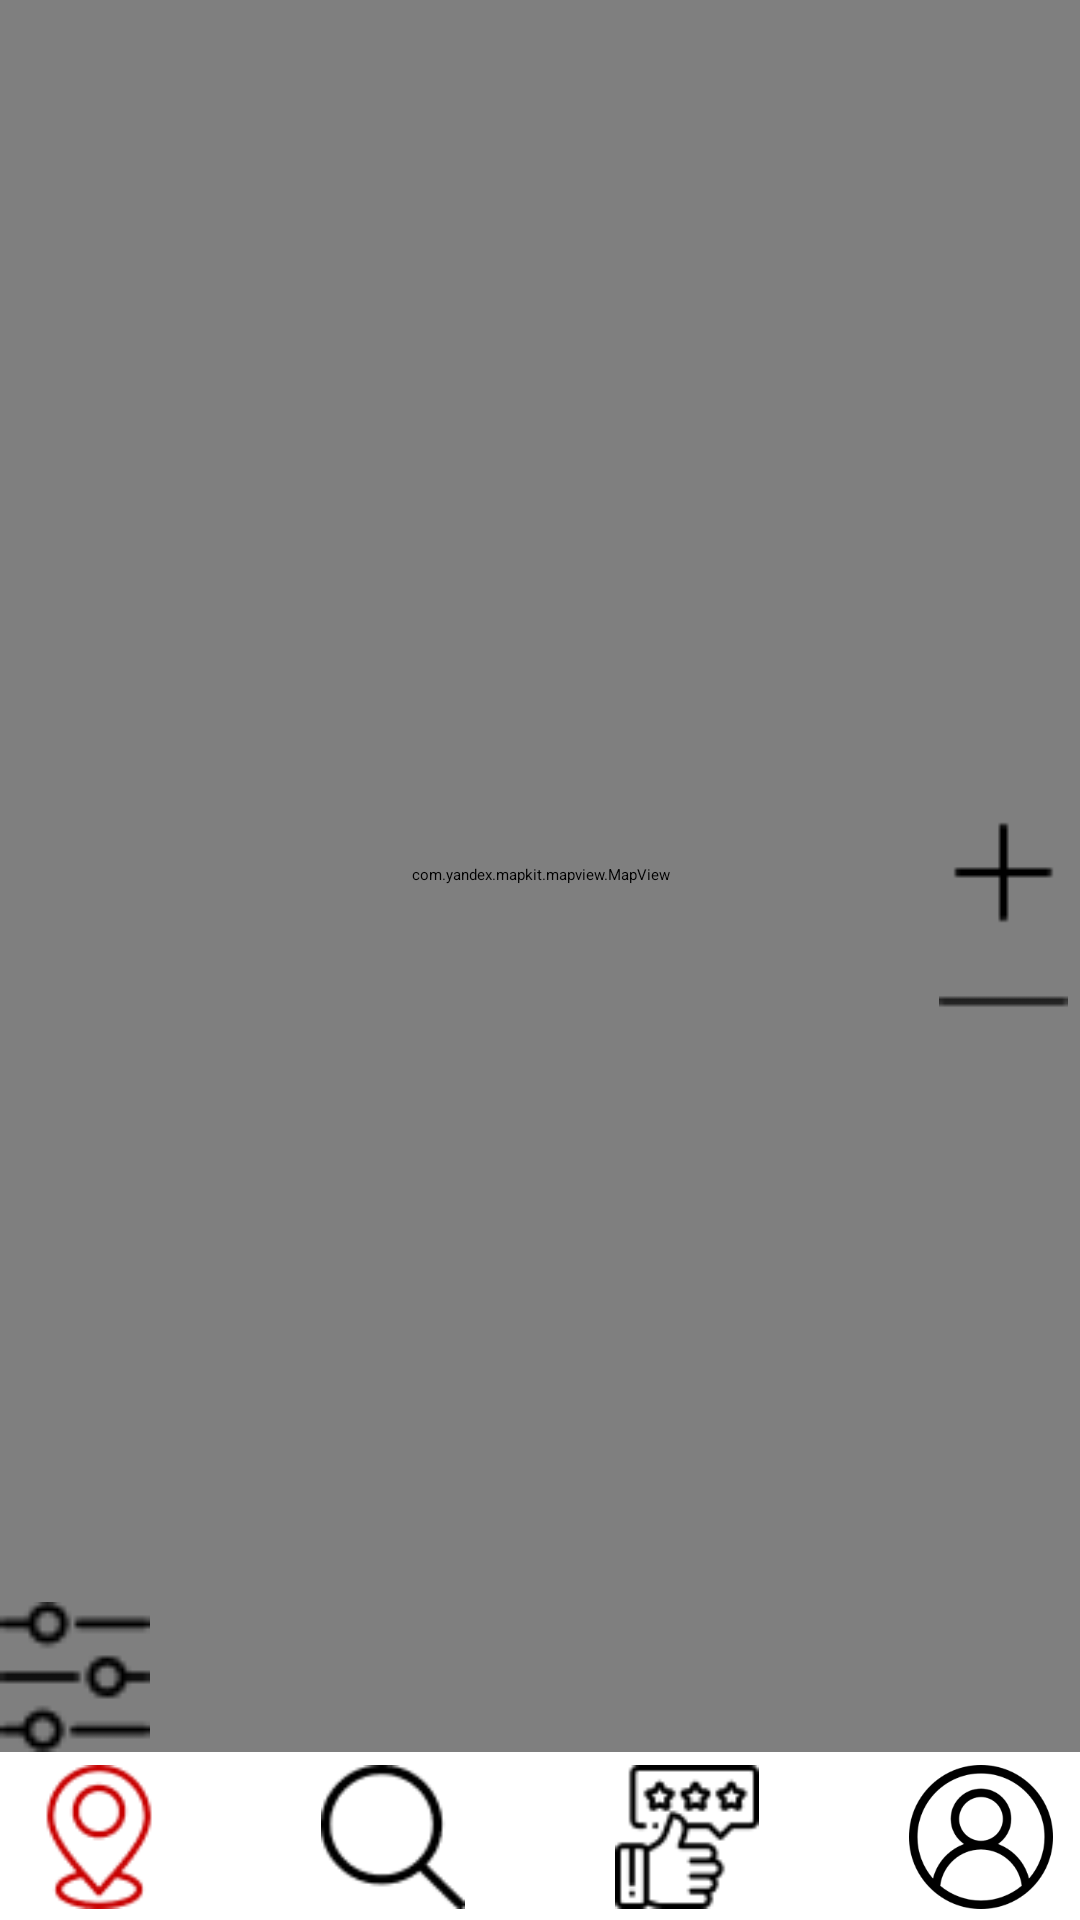

Screen size 1080×1920. Icon name, then its center in pixels as (x=x, y=y):
plus: (x=1003, y=872)
review: (x=687, y=1837)
search interface symbol: (x=393, y=1837)
setting lines: (x=75, y=1670)
user: (x=981, y=1837)
